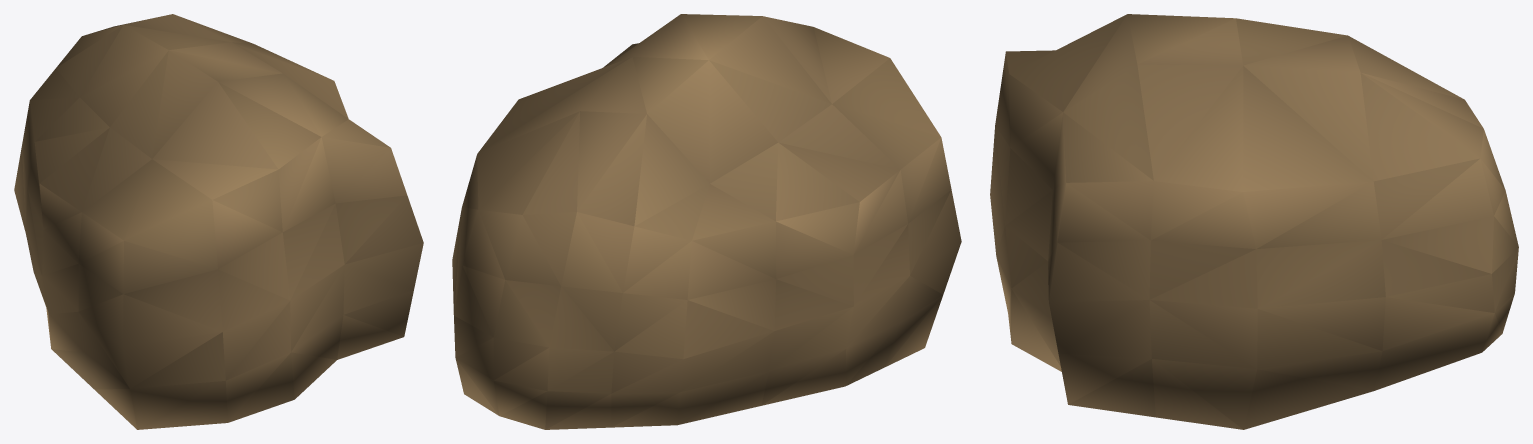
Rendered from SandChunk.007.glb.
3 renders of one model, left to right at view 1: azimuth 30°, elevation 25°; view 2: azimuth 150°, elevation 25°; view 3: azimuth 270°, elevation 25°, orthographic. The views are drawn at different scales.
Parts seen in each view (by area): view 1: SandChunk.007; view 2: SandChunk.007; view 3: SandChunk.007.
Part boxes in pixels (x1=…): SandChunk.007: x1=14, y1=14, x2=423, y2=429; SandChunk.007: x1=452, y1=14, x2=961, y2=429; SandChunk.007: x1=990, y1=14, x2=1518, y2=429.
Size of the model in its own units: 5.98 by 5.33 by 7.7.
